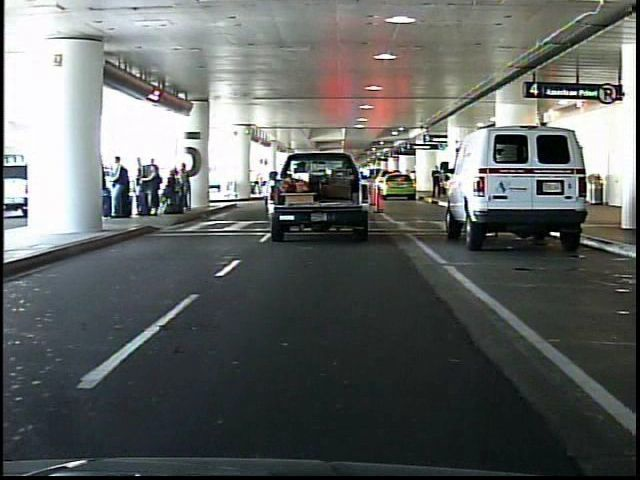person: (431, 165, 443, 201)
